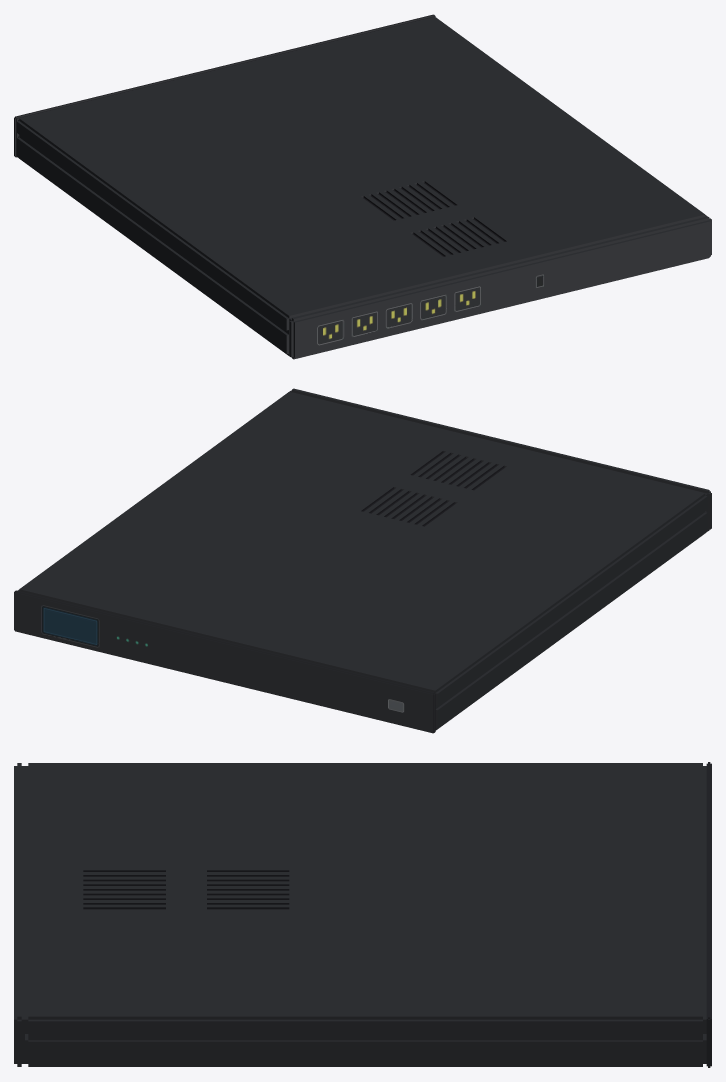
Rendered from eaton-5p-1u-ups.glb.
The picture shows the model from 3 angles, top to bottom: view 1: azimuth 30°, elevation 25°; view 2: azimuth 150°, elevation 25°; view 3: azimuth 270°, elevation 25°; orthographic projection. The views are drawn at different scales.
Parts seen in each view (by area): view 1: eaton-5p-1u-ups-body; view 2: eaton-5p-1u-ups-body; view 3: eaton-5p-1u-ups-body.
Boxes of the visible parts, x1,y1,x2,y2 form: eaton-5p-1u-ups-body: [14, 14, 711, 359]; eaton-5p-1u-ups-body: [14, 388, 711, 733]; eaton-5p-1u-ups-body: [14, 762, 711, 1067].
Size of the model in its own units: 0.442 by 0.043 by 0.508.
Materials: 1 (1 with a texture image).
